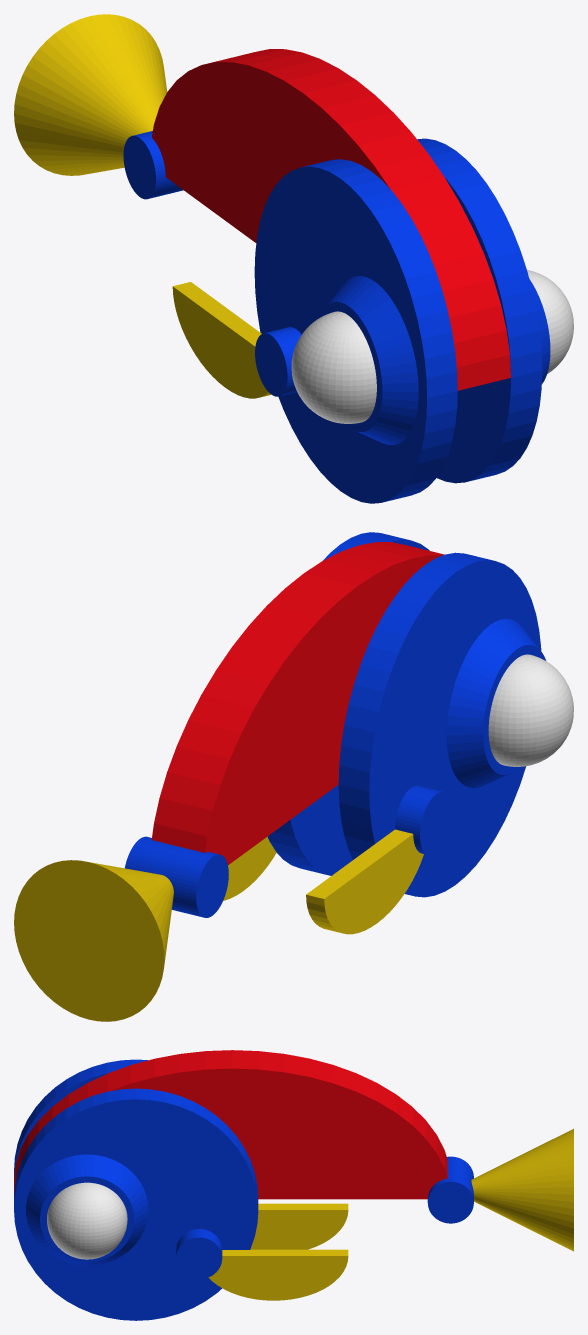
File: TEI_fish_v2.fbx
3 views of the same model, one above another, from view 1: azimuth 30°, elevation 25°; view 2: azimuth 150°, elevation 25°; view 3: azimuth 270°, elevation 25° (orthographic). The views are drawn at different scales.
Parts seen in each view (by area): view 1: Cylinder.008, Cylinder.001, Cone.002, Sphere, Cylinder.004, Cylinder.006, Cylinder.007; view 2: Cylinder.008, Cylinder.001, Cone.002, Cylinder.004, Sphere, Cylinder.006, Cylinder.007; view 3: Cylinder.008, Cylinder.001, Cylinder.004, Cone.002, Sphere, Cylinder.006, Cylinder.007.
Part boxes in pixels (left/top/right/bottom): Cylinder.008: left=254, top=138, right=550, bottom=503; Cylinder.001: left=151, top=49, right=510, bottom=390; Cone.002: left=14, top=14, right=167, bottom=175; Sphere: left=291, top=270, right=573, bottom=423; Cylinder.004: left=172, top=282, right=271, bottom=398; Cylinder.006: left=123, top=131, right=183, bottom=199; Cylinder.007: left=255, top=327, right=301, bottom=396; Cylinder.008: left=267, top=532, right=545, bottom=897; Cylinder.001: left=151, top=542, right=444, bottom=864; Cone.002: left=14, top=860, right=173, bottom=1021; Cylinder.004: left=223, top=829, right=423, bottom=934; Sphere: left=488, top=654, right=573, bottom=766; Cylinder.006: left=125, top=836, right=228, bottom=917; Cylinder.007: left=394, top=785, right=452, bottom=855; Cylinder.008: left=14, top=1059, right=258, bottom=1320; Cylinder.001: left=14, top=1050, right=447, bottom=1199; Cylinder.004: left=208, top=1203, right=348, bottom=1300; Cone.002: left=471, top=1129, right=573, bottom=1251; Sphere: left=47, top=1182, right=127, bottom=1259; Cylinder.006: left=427, top=1156, right=473, bottom=1223; Cylinder.007: left=176, top=1229, right=222, bottom=1279.
Bounding box in the file's own units: 100 × 122 × 256.
